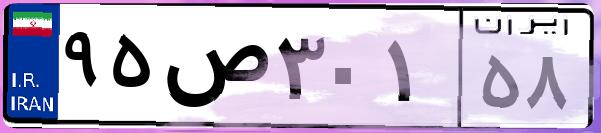0: (330, 28, 385, 110)
1: (385, 28, 445, 110)
3: (270, 28, 330, 110)
5: (475, 38, 525, 113), (110, 28, 158, 98)
8: (525, 38, 570, 115)
9: (57, 26, 110, 100)
ص: (158, 20, 270, 120)
